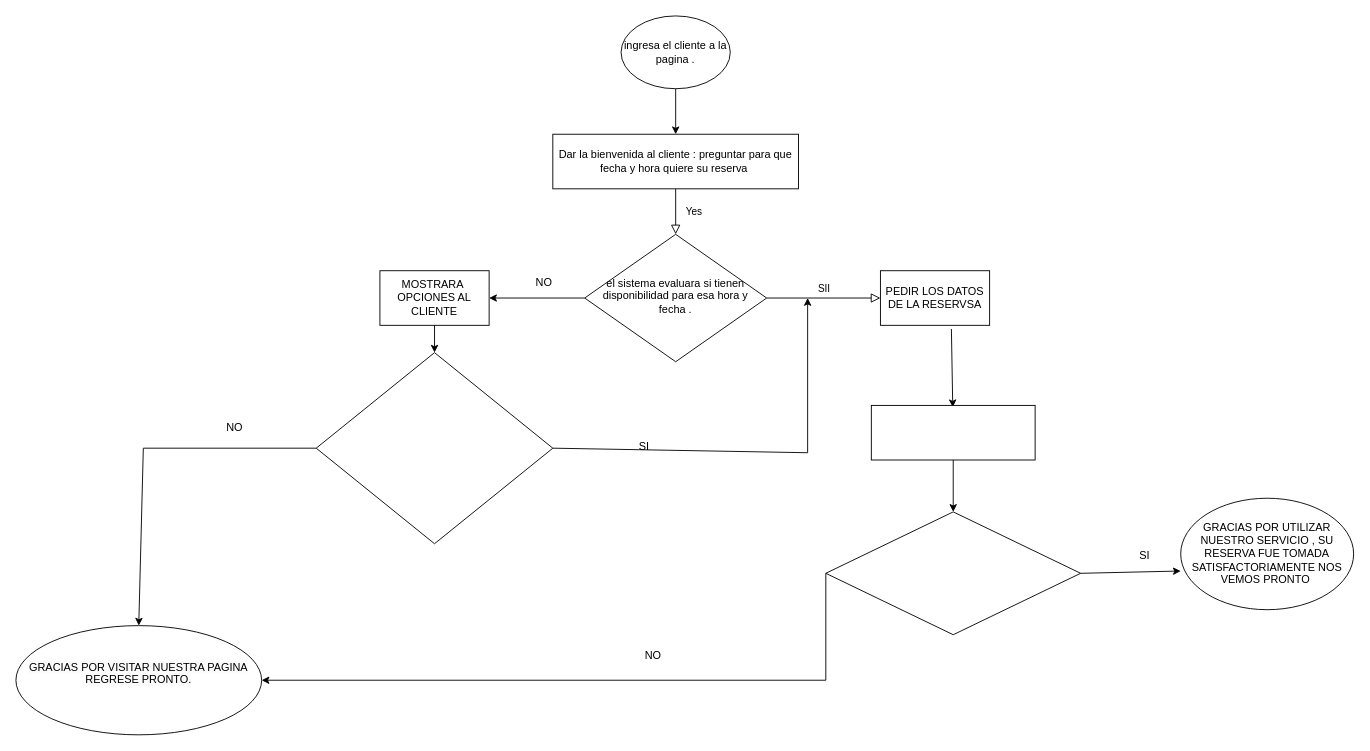
Image size: 1370x751. Some labels were removed from this diagram. The shapes that lost their labels are listed below. From the top down, each one's centre as x and y in pixels, then its label:
At point (434, 448): "RESPUESTA DEL CLIENTE SI LE GUSTA O NO LAS OPCIONES SUMINISTRADAS".
At point (952, 432): "ENVIAR DATOS DE LA RESERVA AL CLIENTE Y VERIFICAR LA INFORMACION".
At point (953, 573): "ESPERAR LA RESPUESTA DEL CLIENTE : SI TOMA LA RESERVA O N O".
